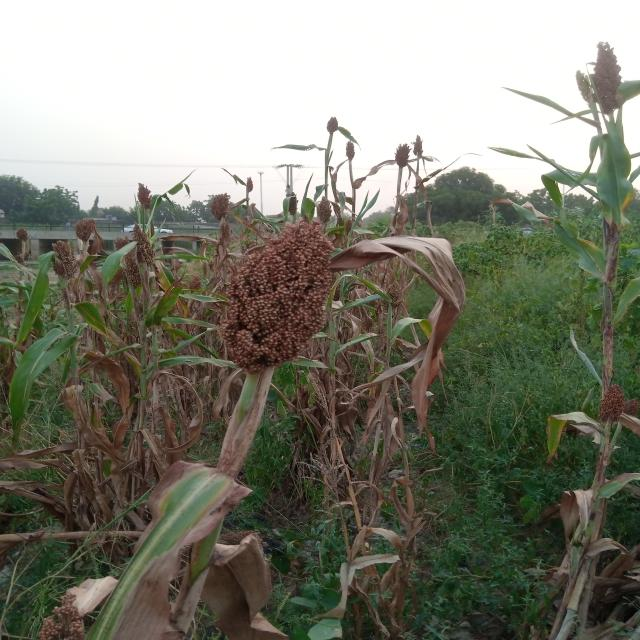RipeSorghum: (202, 196, 350, 377)
